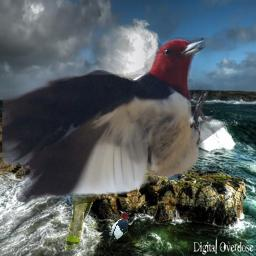Cuckoo: (65, 156, 108, 252)
Woodpecker: (2, 29, 226, 202), (99, 210, 128, 243)
